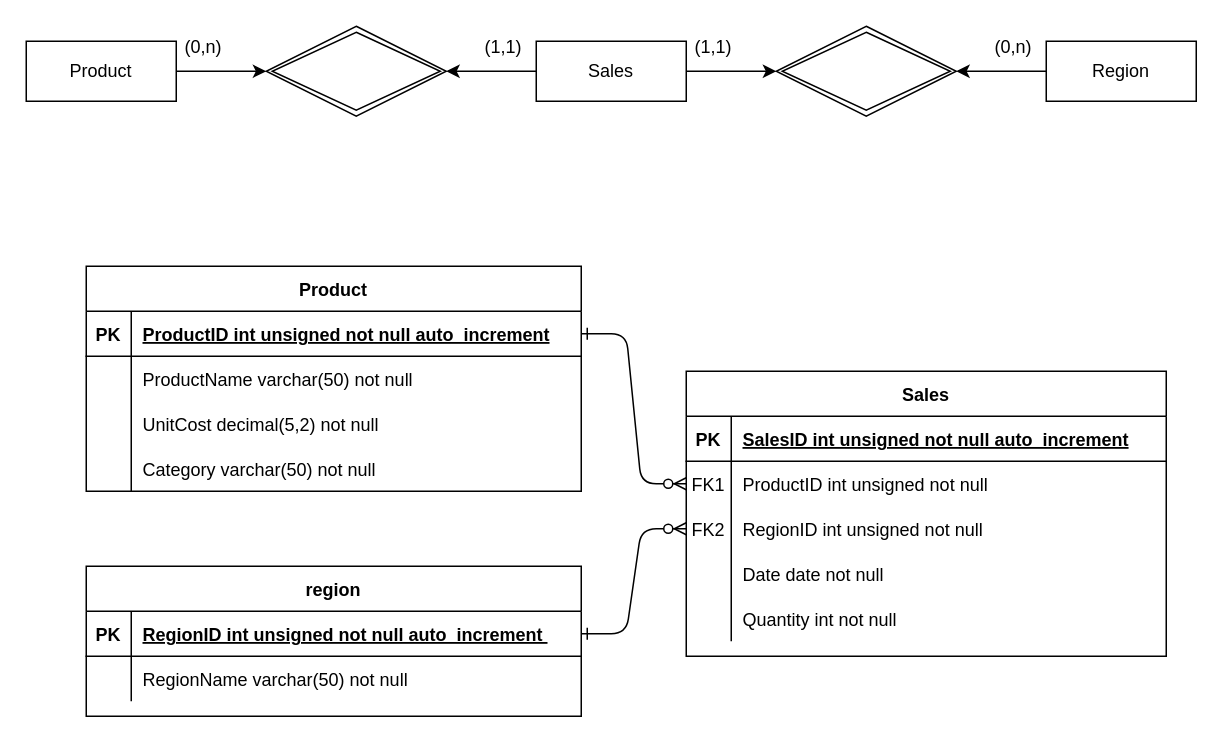
Image size: 1223x743. Some labels were removed from this diagram. Each missing label, with the box of its shape:
hanno: (775, 25, 956, 116)
è venduto: (265, 25, 446, 116)
